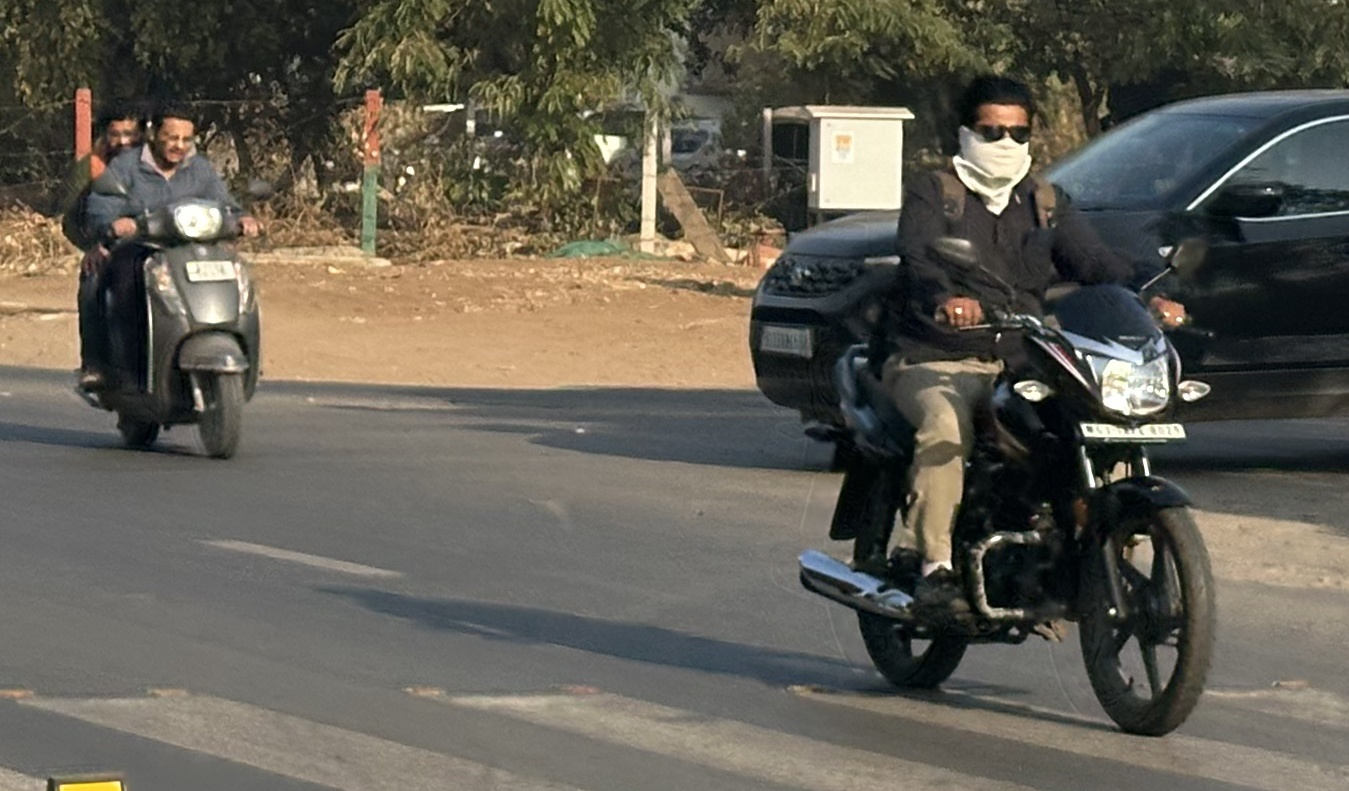BikeWithRider: (784, 62, 1231, 746), (49, 88, 282, 466)
NoHelmet: (936, 66, 1055, 191), (136, 99, 209, 170), (83, 98, 154, 168)
